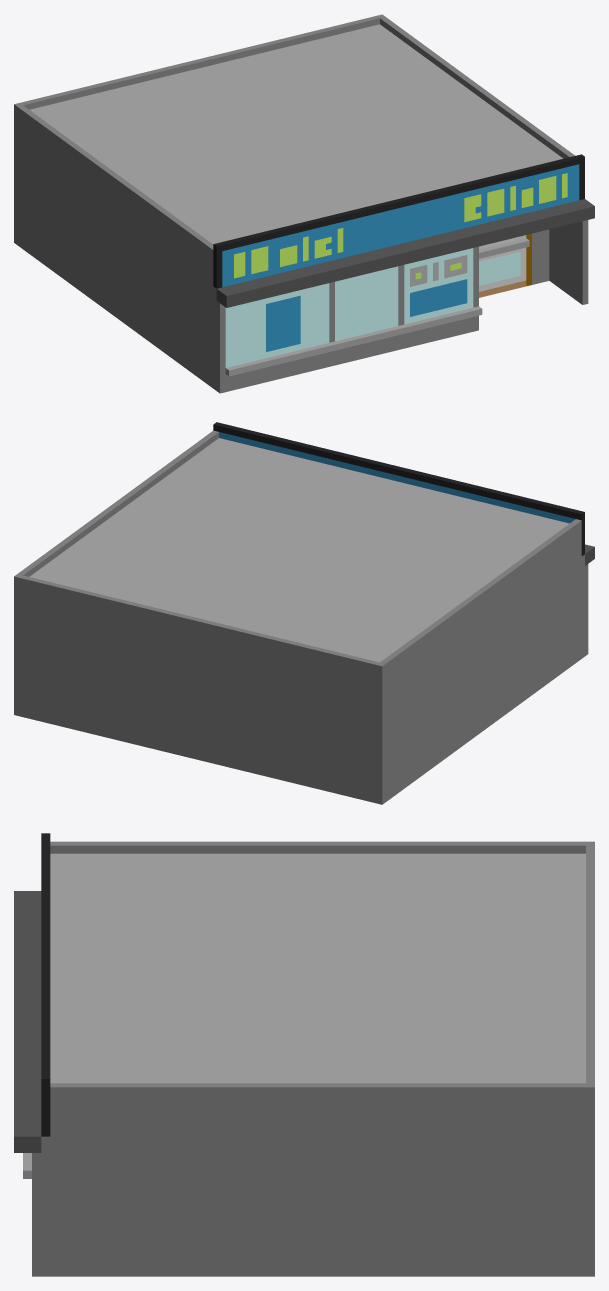
File: obj_store04.obj
The picture shows the model from 3 angles, top to bottom: view 1: azimuth 30°, elevation 25°; view 2: azimuth 150°, elevation 25°; view 3: azimuth 270°, elevation 25°; orthographic projection. The views are drawn at different scales.
Size of the model in its own units: 6.4 by 2.4 by 6.4.
Materials: 1 (1 with a texture image).
